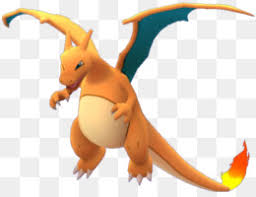charizard: (5, 5, 251, 196)
